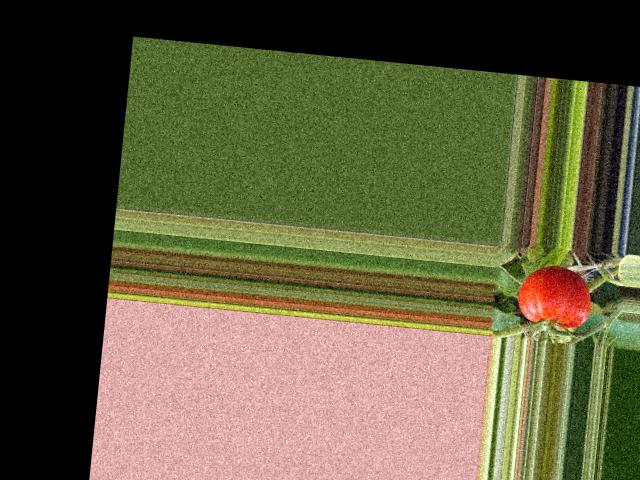tomato: (516, 262, 595, 329)
